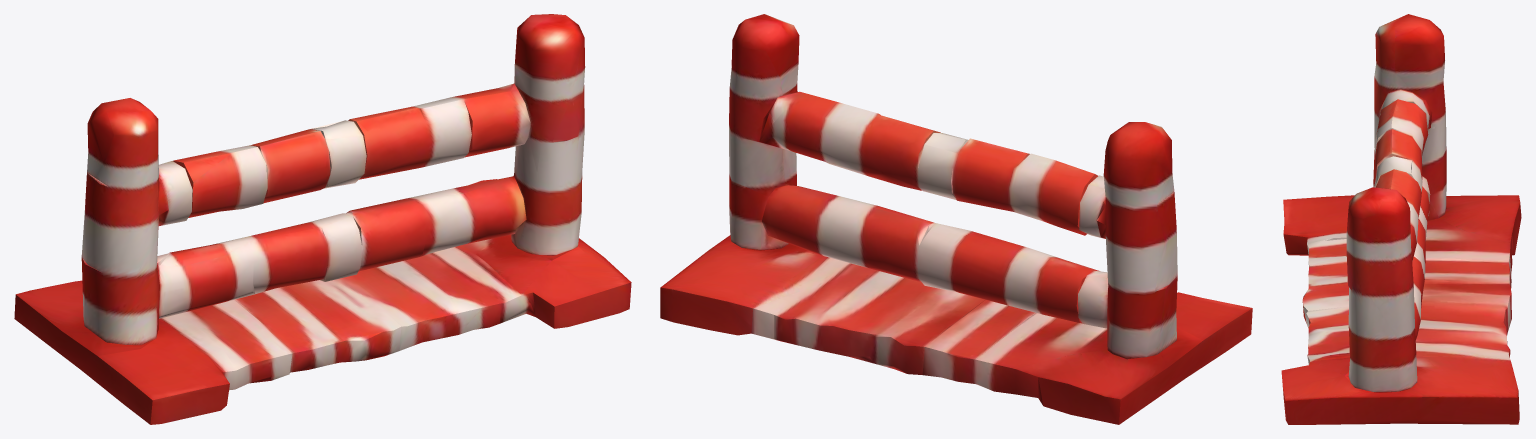
The model's file is roadBarrier.glb.
3 renders of one model, left to right at view 1: azimuth 30°, elevation 25°; view 2: azimuth 150°, elevation 25°; view 3: azimuth 270°, elevation 25°, orthographic. The views are drawn at different scales.
Visible parts, largest first — view 1: model; view 2: model; view 3: model.
Boxes of the visible parts, left/top/right/bottom form: model: left=14, top=14, right=631, bottom=424; model: left=660, top=14, right=1252, bottom=424; model: left=1281, top=14, right=1521, bottom=424.
Size of the model in its own units: 1.9 by 0.9729 by 0.9501.
Materials: 1 (1 with a texture image).
